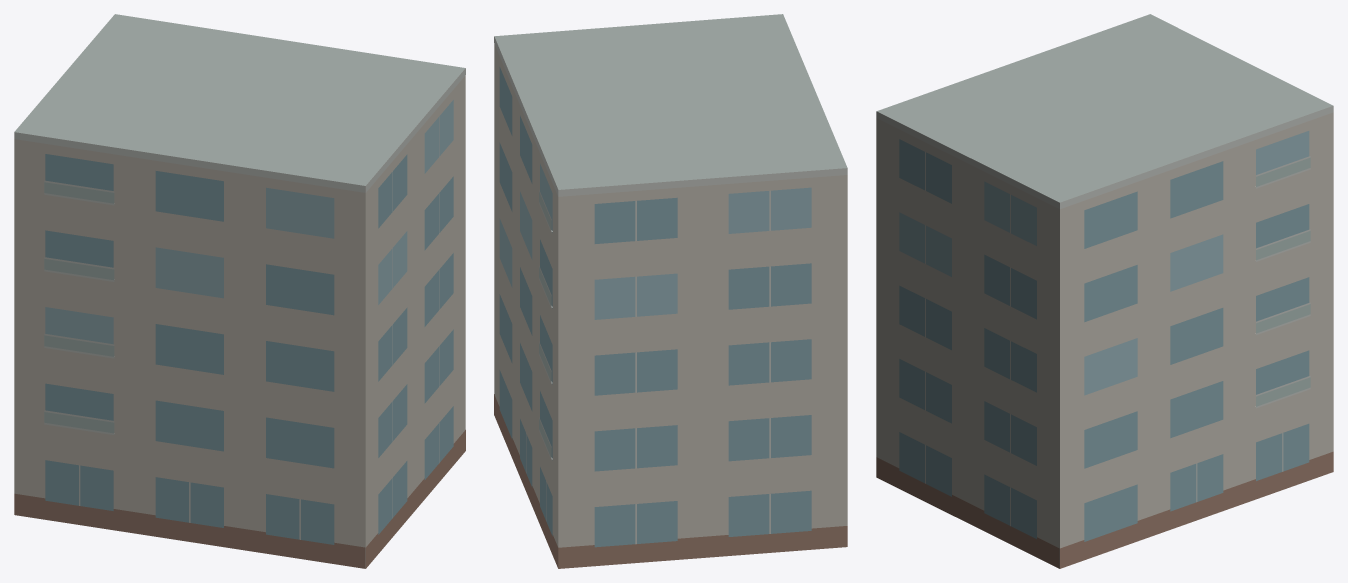
Rendered from survey-upis-32686255.glb.
The picture shows the model from 3 angles, left to right: view 1: azimuth 30°, elevation 25°; view 2: azimuth 150°, elevation 25°; view 3: azimuth 270°, elevation 25°; orthographic projection. The views are drawn at different scales.
Visible parts, largest first — view 1: survey-upis-32686255.tmp; view 2: survey-upis-32686255.tmp; view 3: survey-upis-32686255.tmp.
Boxes of the visible parts, x1,y1,x2,y2 form: survey-upis-32686255.tmp: [14, 14, 465, 568]; survey-upis-32686255.tmp: [494, 14, 847, 568]; survey-upis-32686255.tmp: [876, 14, 1333, 568].
Size of the model in its own units: 14.93 by 13.5 by 15.28.
